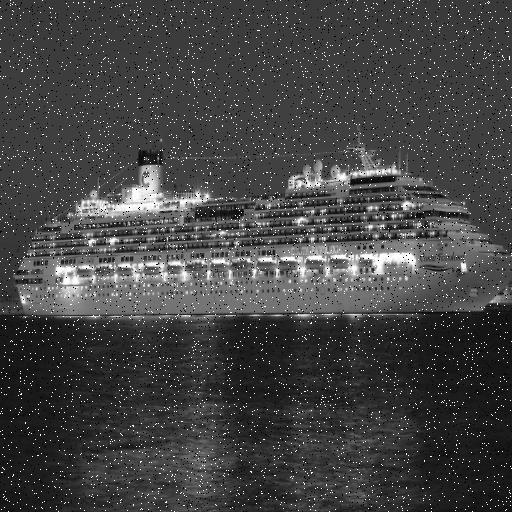cruises: (12, 136, 512, 323)
